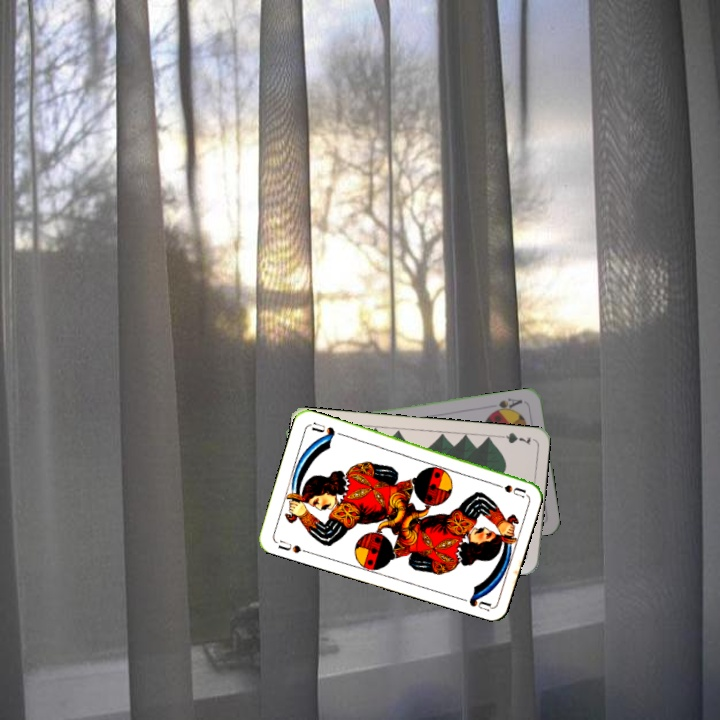G7: (493, 429, 533, 447)
SA: (488, 394, 528, 416)
SU: (487, 478, 528, 499), (274, 536, 304, 556)
